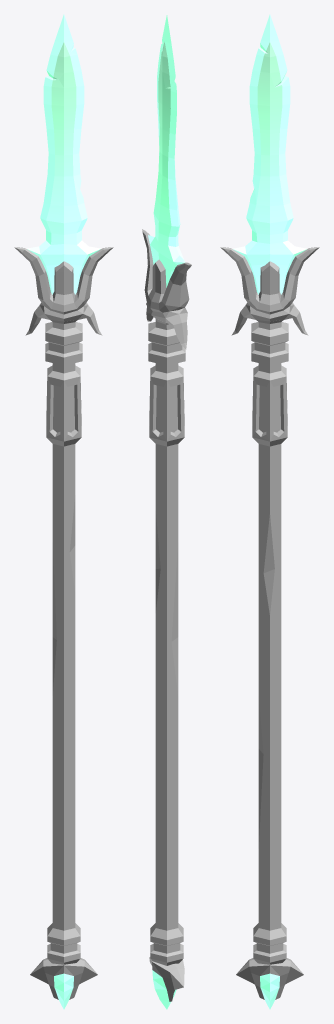
File: SM_Wep_Spear_01.fbx
3 views of the same model, side by side, from view 1: azimuth 90°, elevation 25°; view 2: azimuth 210°, elevation 25°; view 3: azimuth 270°, elevation 25° (orthographic).
Visible parts, largest first — view 1: SM_Wep_Spear_01; view 2: SM_Wep_Spear_01; view 3: SM_Wep_Spear_01.
Part boxes in pixels (x1,y1,x2,y2): SM_Wep_Spear_01: [14, 14, 113, 1009]; SM_Wep_Spear_01: [142, 15, 191, 1009]; SM_Wep_Spear_01: [220, 14, 319, 1009].
Size of the model in its own units: 9.81 by 251 by 22.8.
